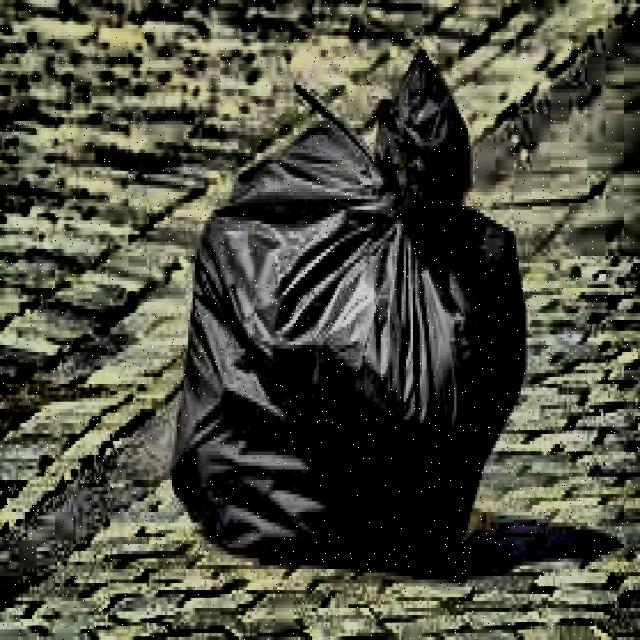Trashbag: (168, 73, 534, 578)
